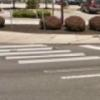crosswalks: (1, 44, 100, 81)
